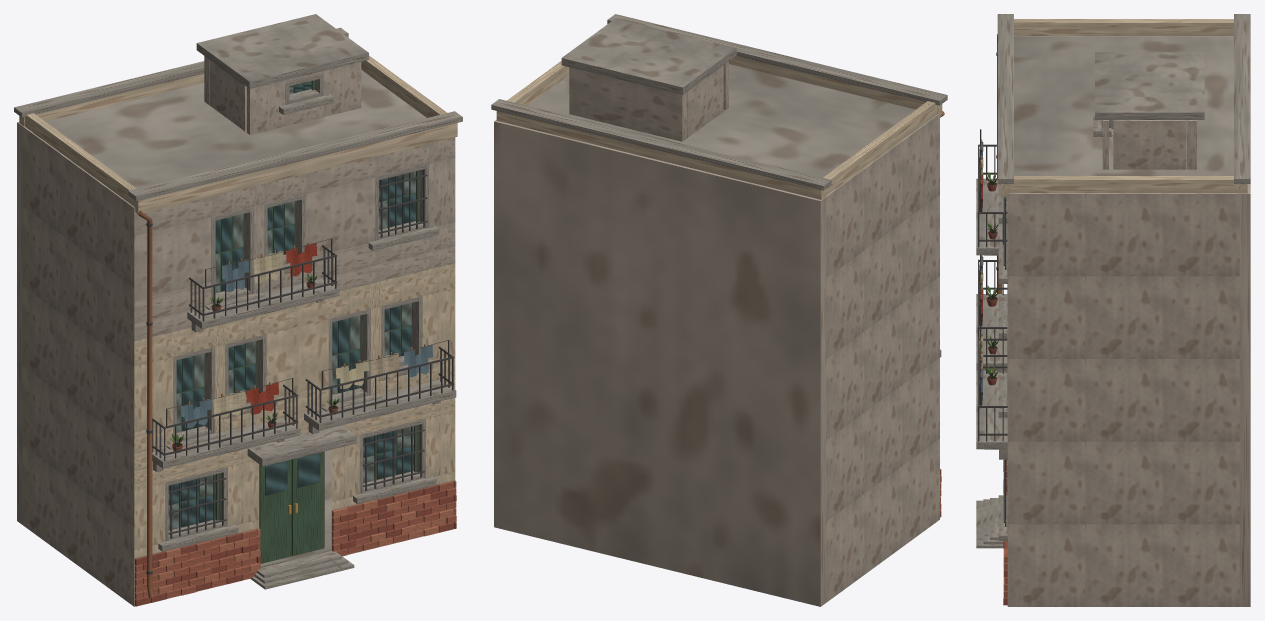
File: scene-apartment.glb
3 views of the same model, side by side, from view 1: azimuth 30°, elevation 25°; view 2: azimuth 150°, elevation 25°; view 3: azimuth 270°, elevation 25° (orthographic). The views are drawn at different scales.
Parts seen in each view (by area): view 1: scene-apartment; view 2: scene-apartment; view 3: scene-apartment.
Boxes of the visible parts, x1,y1,x2,y2 form: scene-apartment: (14, 14, 462, 606); scene-apartment: (491, 14, 947, 606); scene-apartment: (976, 14, 1250, 606).
Bounding box in the file's own units: 5.7 × 7.6 × 4.
Materials: 3 (3 with a texture image).
